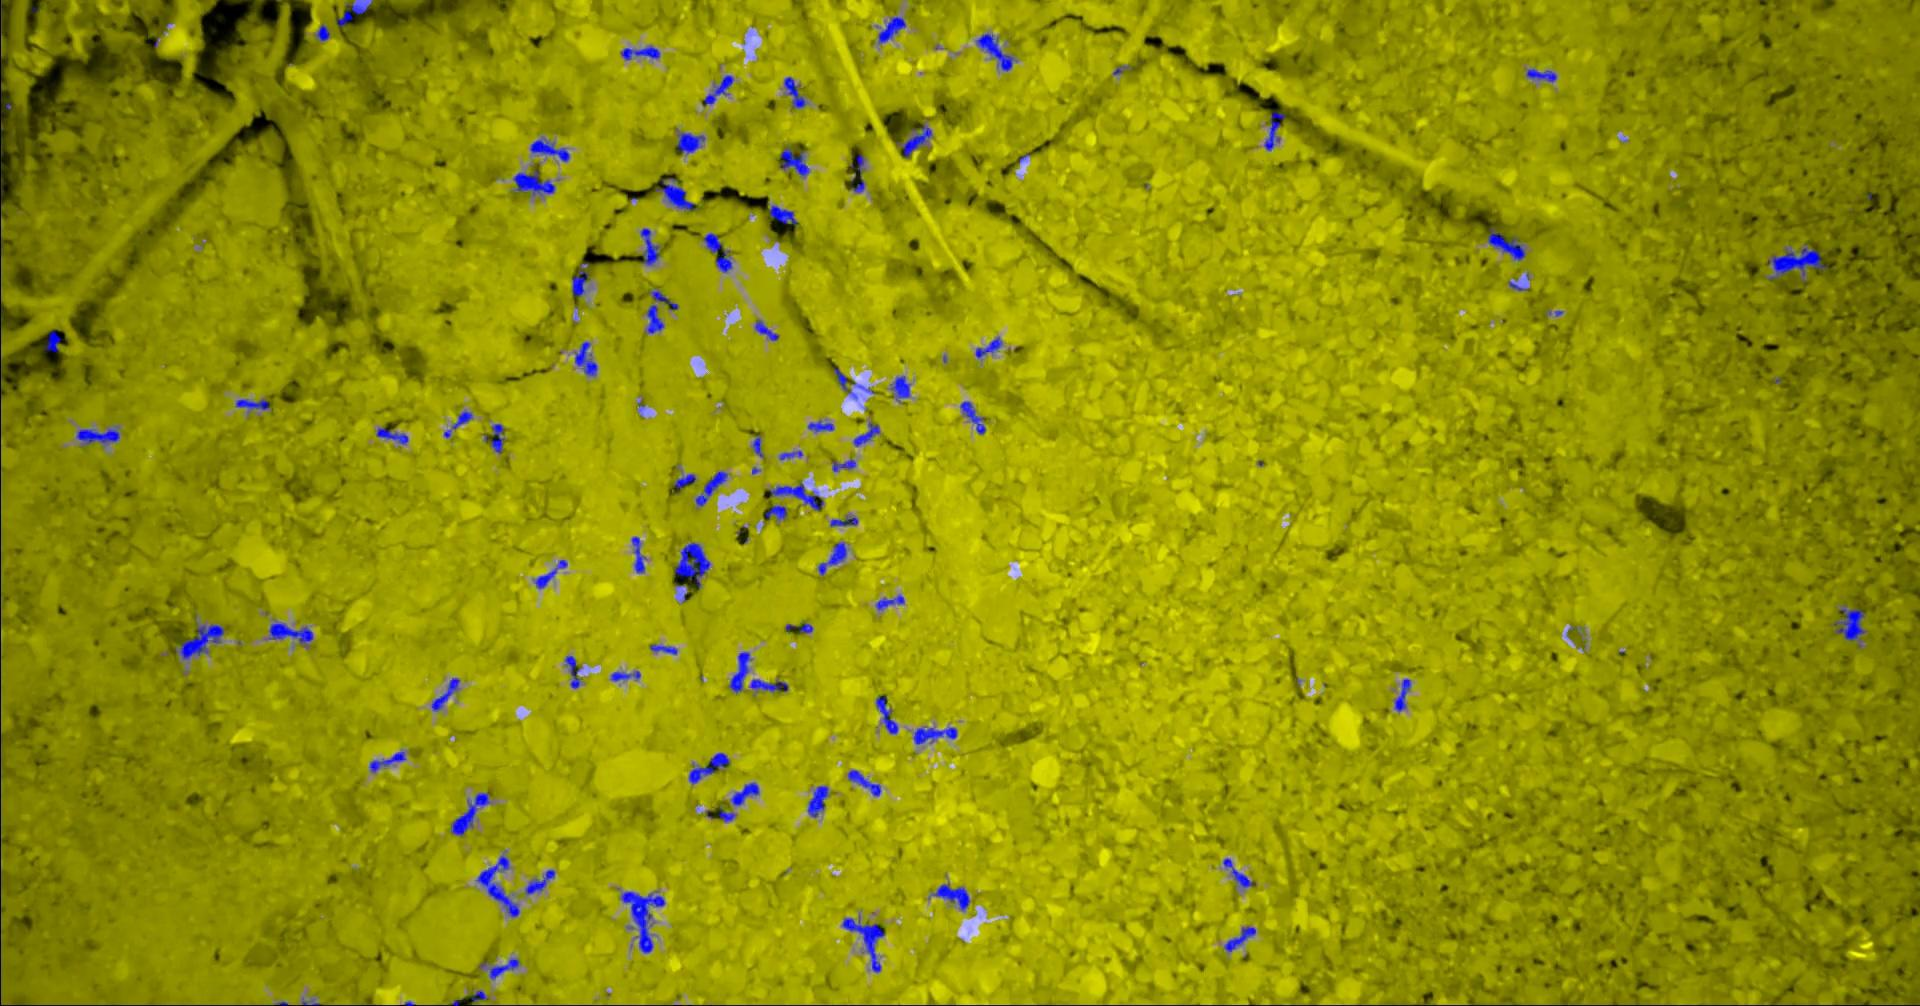ant: (475, 855, 519, 916), (620, 890, 664, 951), (841, 915, 884, 972), (1768, 243, 1826, 282), (175, 624, 223, 659), (450, 793, 489, 836), (673, 542, 709, 588), (768, 481, 823, 511), (655, 177, 698, 210), (975, 33, 1013, 70), (688, 752, 729, 782), (1487, 227, 1524, 260), (695, 471, 728, 506), (703, 232, 731, 272), (512, 169, 554, 194), (932, 883, 969, 909), (902, 124, 931, 158), (817, 542, 846, 575), (535, 559, 568, 588), (1835, 607, 1864, 640), (728, 652, 750, 694), (337, 0, 372, 27), (703, 74, 733, 105), (1222, 857, 1253, 887), (430, 677, 458, 710), (847, 768, 880, 796), (530, 138, 569, 161), (959, 401, 985, 434), (268, 622, 312, 641), (780, 147, 808, 177), (875, 696, 897, 733), (574, 340, 597, 375), (443, 410, 472, 437), (1224, 926, 1255, 951), (76, 426, 119, 443), (913, 727, 956, 744), (1263, 111, 1283, 150), (368, 751, 405, 771), (877, 17, 905, 43), (524, 869, 554, 894), (640, 227, 659, 265), (833, 366, 856, 398), (783, 76, 805, 107), (808, 785, 828, 817), (730, 782, 758, 805), (484, 423, 504, 453), (489, 958, 519, 978), (853, 422, 879, 446), (620, 44, 659, 60), (648, 290, 678, 309), (975, 337, 1002, 358), (676, 132, 703, 152), (571, 262, 588, 296), (631, 536, 646, 573), (768, 205, 797, 224), (564, 655, 580, 688), (850, 154, 863, 192), (376, 427, 408, 443), (890, 375, 909, 401), (1394, 678, 1410, 711), (646, 304, 663, 333), (756, 320, 778, 340), (750, 680, 787, 691), (875, 594, 903, 608), (1525, 69, 1556, 81), (44, 330, 61, 352), (673, 473, 695, 489), (610, 669, 640, 681), (235, 399, 268, 409), (649, 643, 677, 654), (830, 459, 855, 471), (764, 506, 786, 520), (717, 803, 734, 821), (829, 516, 857, 526), (785, 622, 811, 633), (808, 420, 833, 431), (752, 437, 763, 456), (778, 450, 803, 459), (316, 24, 329, 39), (471, 989, 486, 1001)
